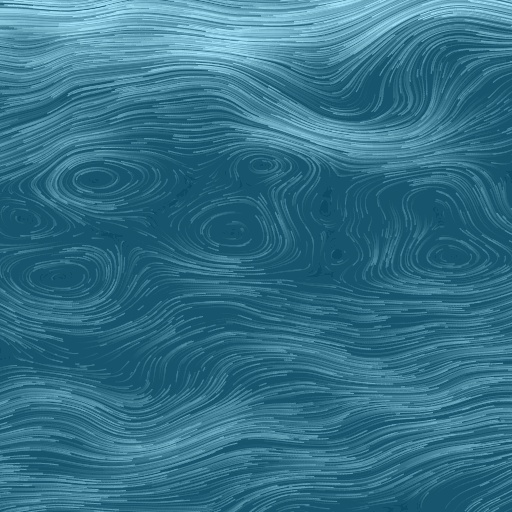eddy: (396, 177, 503, 283), (4, 240, 122, 310), (173, 196, 287, 264), (54, 150, 162, 213), (241, 150, 286, 179)
